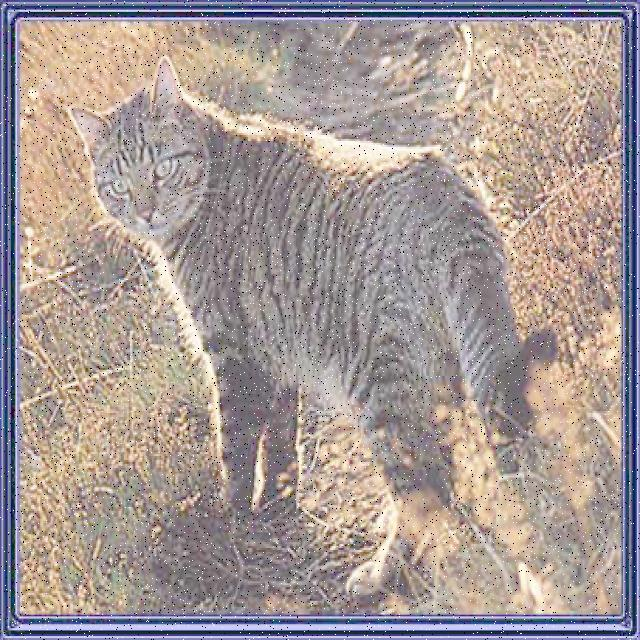cat: (73, 57, 530, 596)
